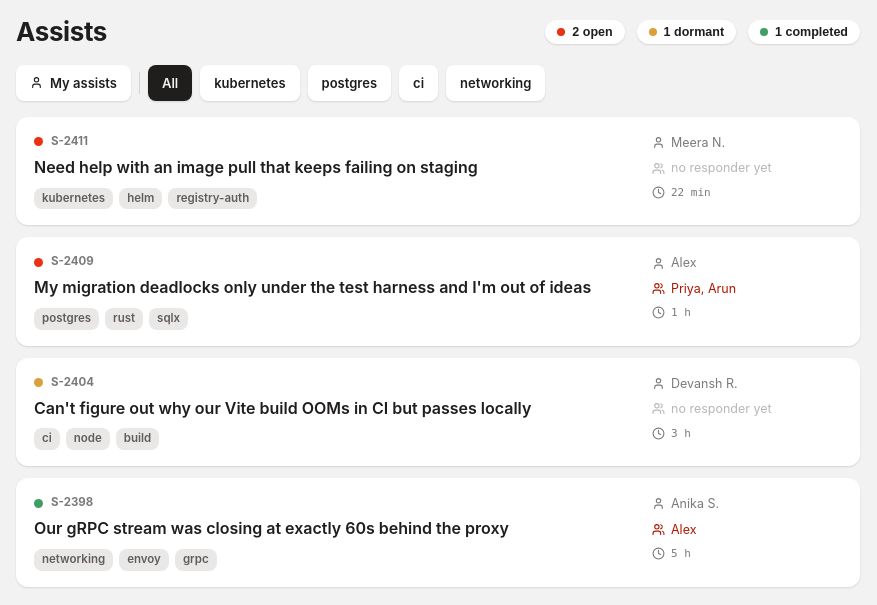
Open assists › filters by status through hub query params
The width and height of the screenshot is (877, 605).
Expected: the text "S-2411" is shown 4 times, x1=51 y1=133 x2=88 y2=151; x1=51 y1=254 x2=94 y2=271; x1=51 y1=374 x2=94 y2=392; x1=51 y1=494 x2=93 y2=512
Click the button "1 dormant" at {"x": 686, "y": 32}, box x1=637 y1=20 x2=736 y2=44
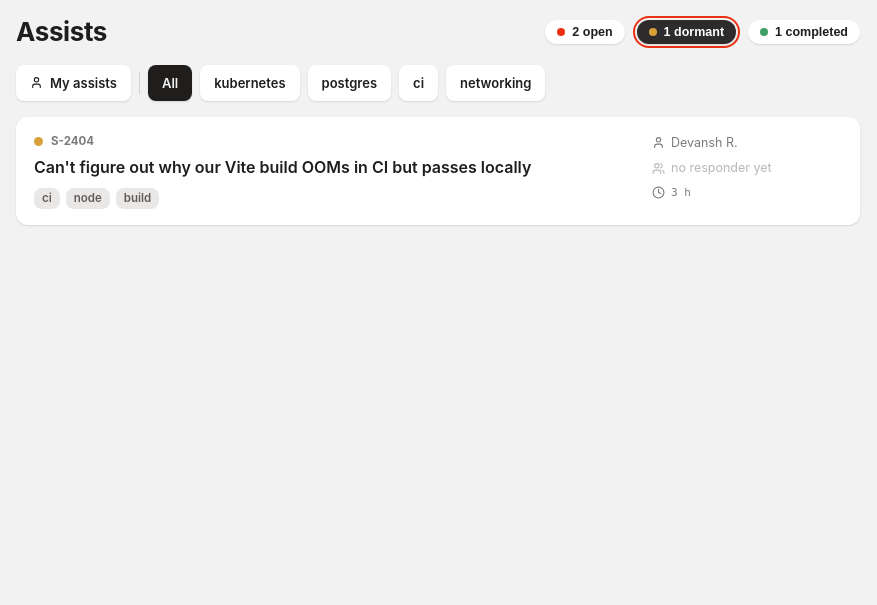
Expected: the text "Vite build OOMs" is shown, x1=34 y1=157 x2=531 y2=177
Expected: the text "S-2404" is shown once, x1=51 y1=133 x2=94 y2=151
